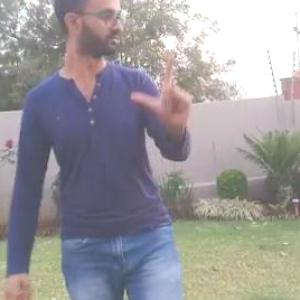land_hand: (129, 42, 197, 134)
